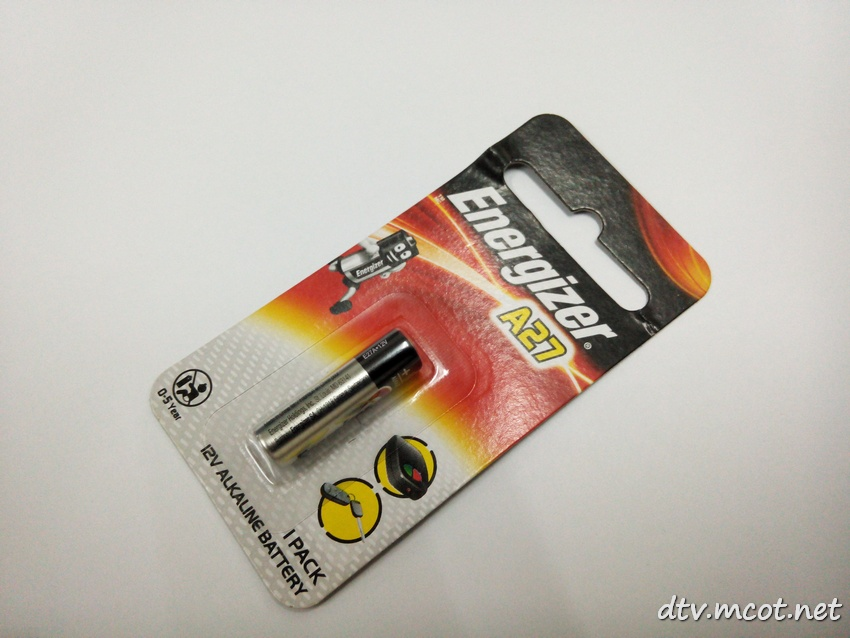Battery: (245, 324, 425, 472)
